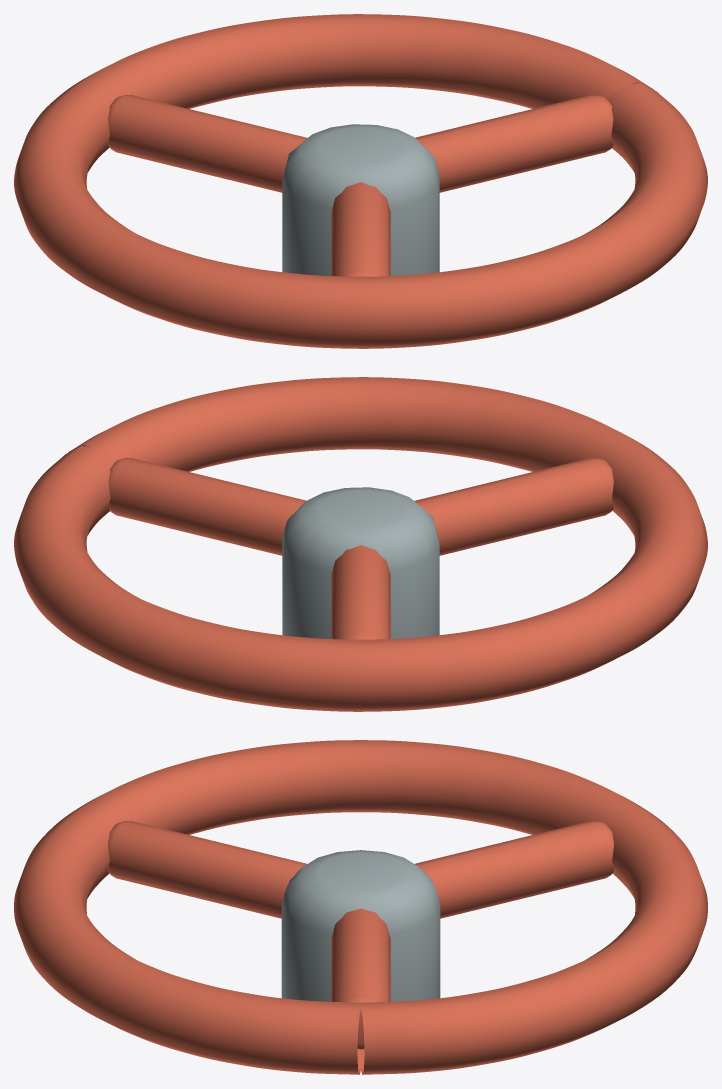
Rendered from CouplingWheel.fbx.
3 renders of one model, top to bottom at view 1: azimuth 30°, elevation 25°; view 2: azimuth 150°, elevation 25°; view 3: azimuth 270°, elevation 25°, orthographic.
Visible parts, largest first — view 1: Wheel, WheelCenter, Spoke.001, Spoke, Spoke.002; view 2: Wheel, WheelCenter, Spoke.002, Spoke, Spoke.001; view 3: Wheel, WheelCenter, Spoke.001, Spoke.002, Spoke.
Part boxes in pixels (x1=…): Wheel: x1=14, y1=14, x2=707, y2=348; WheelCenter: x1=282, y1=124, x2=439, y2=275; Spoke.001: x1=108, y1=95, x2=307, y2=192; Spoke: x1=415, y1=95, x2=613, y2=192; Spoke.002: x1=331, y1=182, x2=390, y2=276; Wheel: x1=14, y1=377, x2=707, y2=711; WheelCenter: x1=282, y1=487, x2=439, y2=638; Spoke.002: x1=414, y1=458, x2=613, y2=555; Spoke: x1=108, y1=458, x2=306, y2=555; Spoke.001: x1=331, y1=545, x2=390, y2=639; Wheel: x1=14, y1=740, x2=707, y2=1074; WheelCenter: x1=281, y1=850, x2=440, y2=1001; Spoke.001: x1=415, y1=820, x2=613, y2=918; Spoke.002: x1=108, y1=820, x2=306, y2=918; Spoke: x1=331, y1=908, x2=390, y2=1049.
Bounding box in the file's own units: 20.99 × 5.7 × 21.
